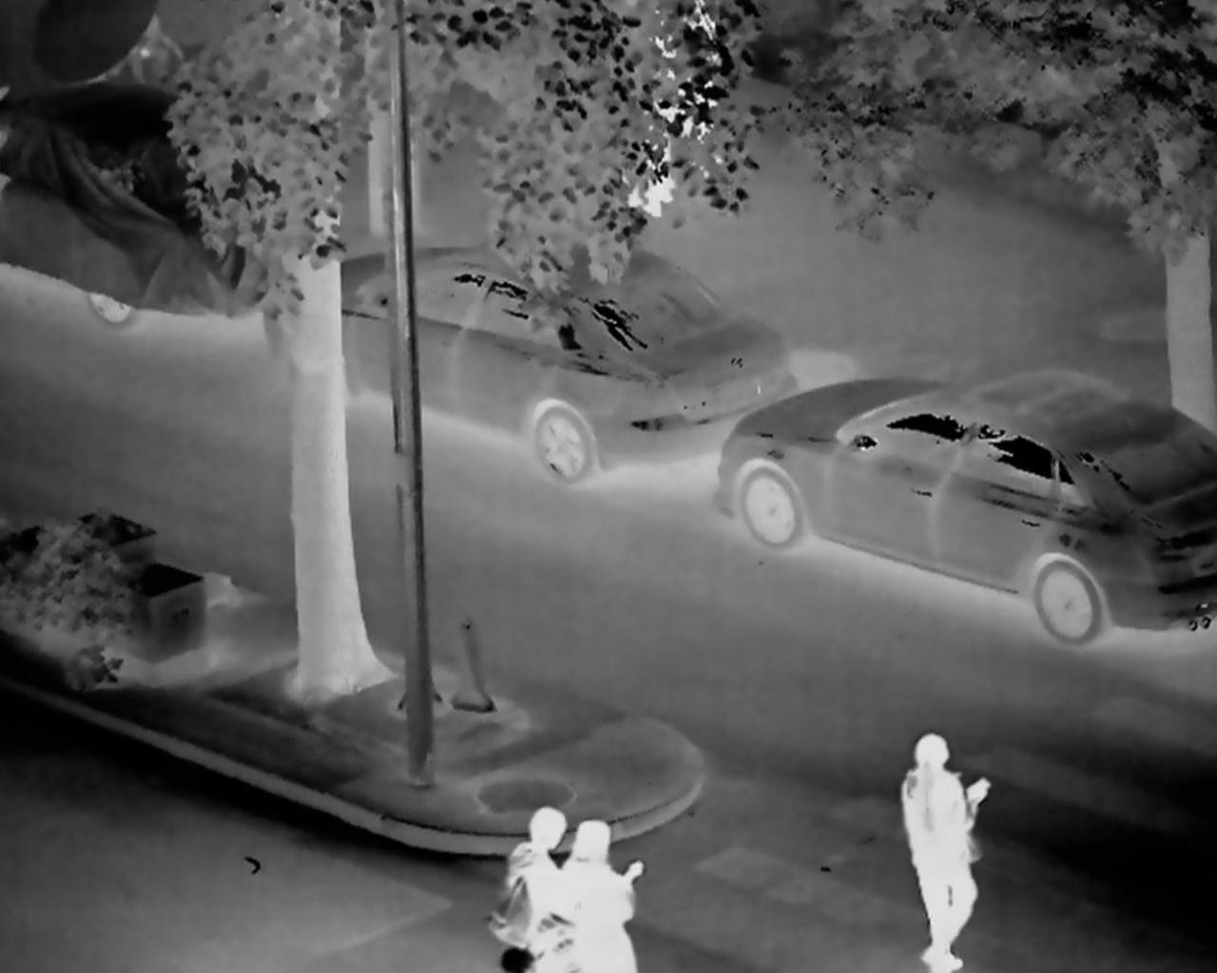person: (900, 715, 989, 973), (596, 15, 671, 217), (567, 809, 647, 973), (500, 805, 567, 972), (659, 3, 707, 114)
